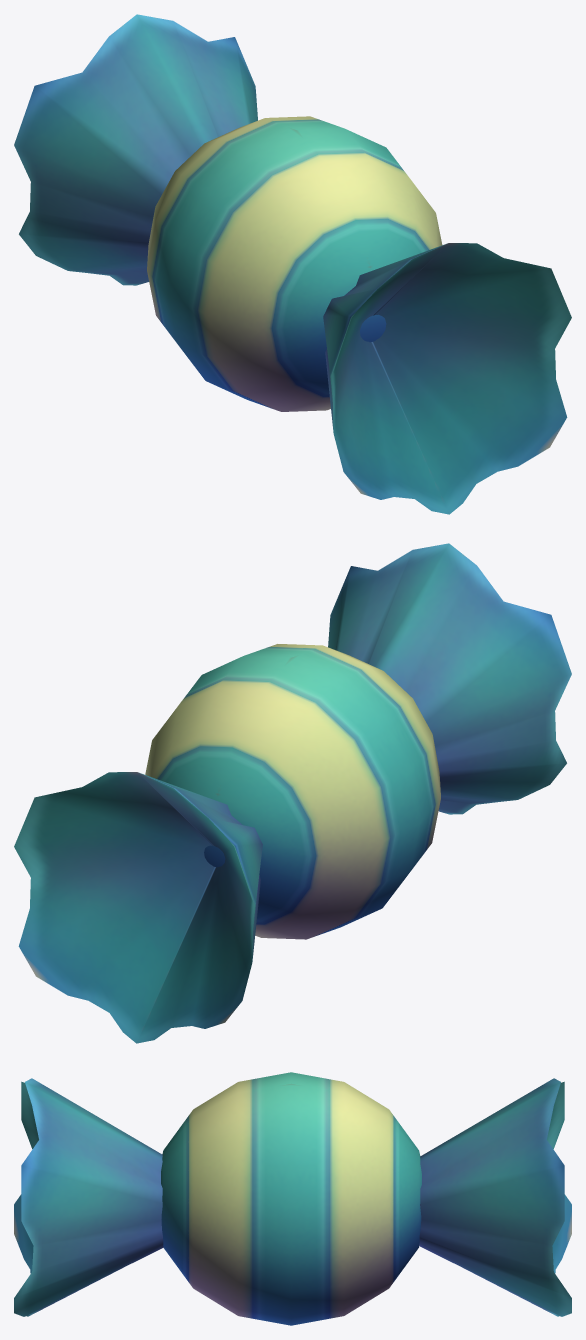
Rendered from scenes_around_candy01.FBX.
3 renders of one model, top to bottom at view 1: azimuth 30°, elevation 25°; view 2: azimuth 150°, elevation 25°; view 3: azimuth 270°, elevation 25°, orthographic. The views are drawn at different scales.
Visible parts, largest first — view 1: scenes_around_candy01; view 2: scenes_around_candy01; view 3: scenes_around_candy01.
Boxes of the visible parts, left/top/right/bottom form: scenes_around_candy01: left=14, top=14, right=571, bottom=514; scenes_around_candy01: left=14, top=543, right=571, bottom=1043; scenes_around_candy01: left=14, top=1072, right=571, bottom=1325.
Bounding box in the file's own units: 2316 × 2349 × 5094.
